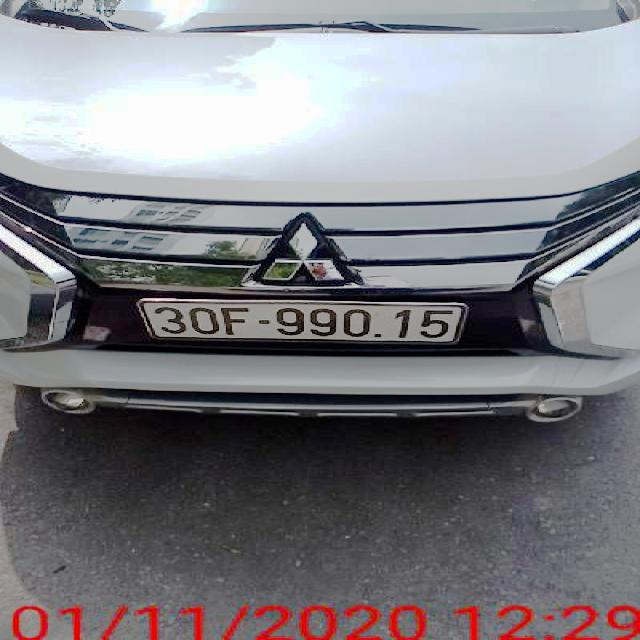license_plate: (143, 298, 467, 344)
